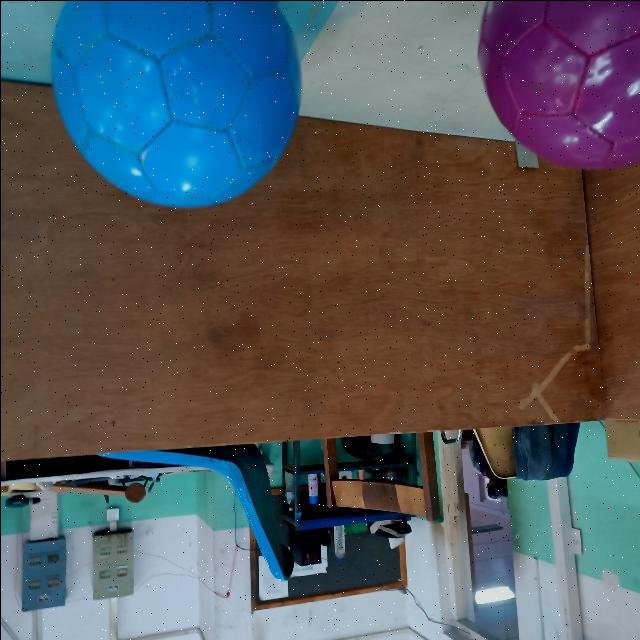B: (46, 0, 306, 214)
P: (472, 0, 640, 172)
